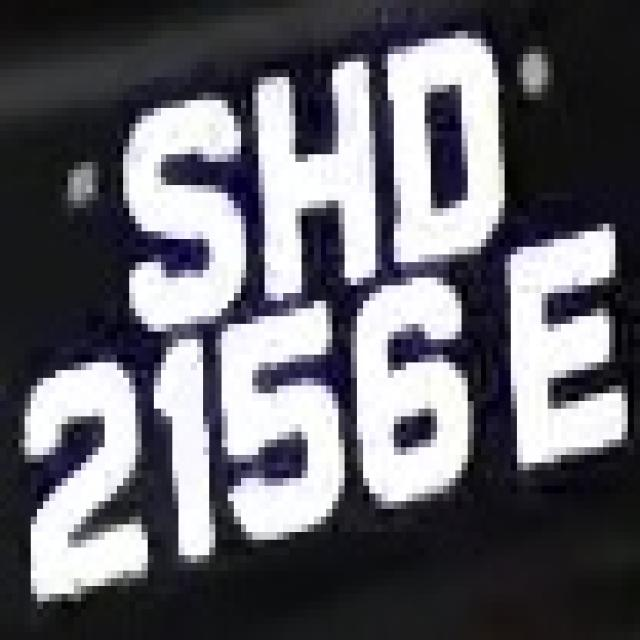1: (154, 301, 228, 601)
2: (12, 354, 166, 624)
5: (209, 293, 345, 540)
6: (332, 270, 468, 532)
D: (369, 31, 517, 277)
E: (498, 216, 628, 478)
H: (246, 23, 400, 309)
S: (105, 70, 252, 332)
